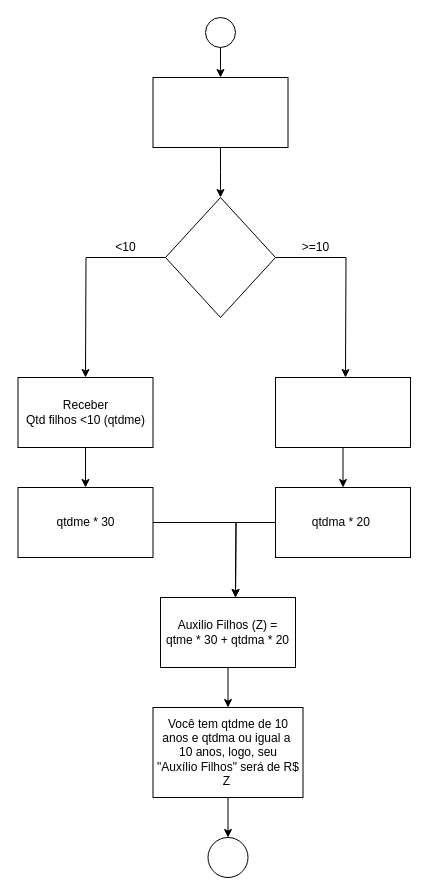
The diagram is 428 pixels wide and 895 high, and some of its shapes have lost their labels. Each missing label, with the centre of its shape:
Perguntar: Quantos filhos você possui?: the point at 220,112
Receber Qtd filhos >=10 (qtdma): the point at 342,412
